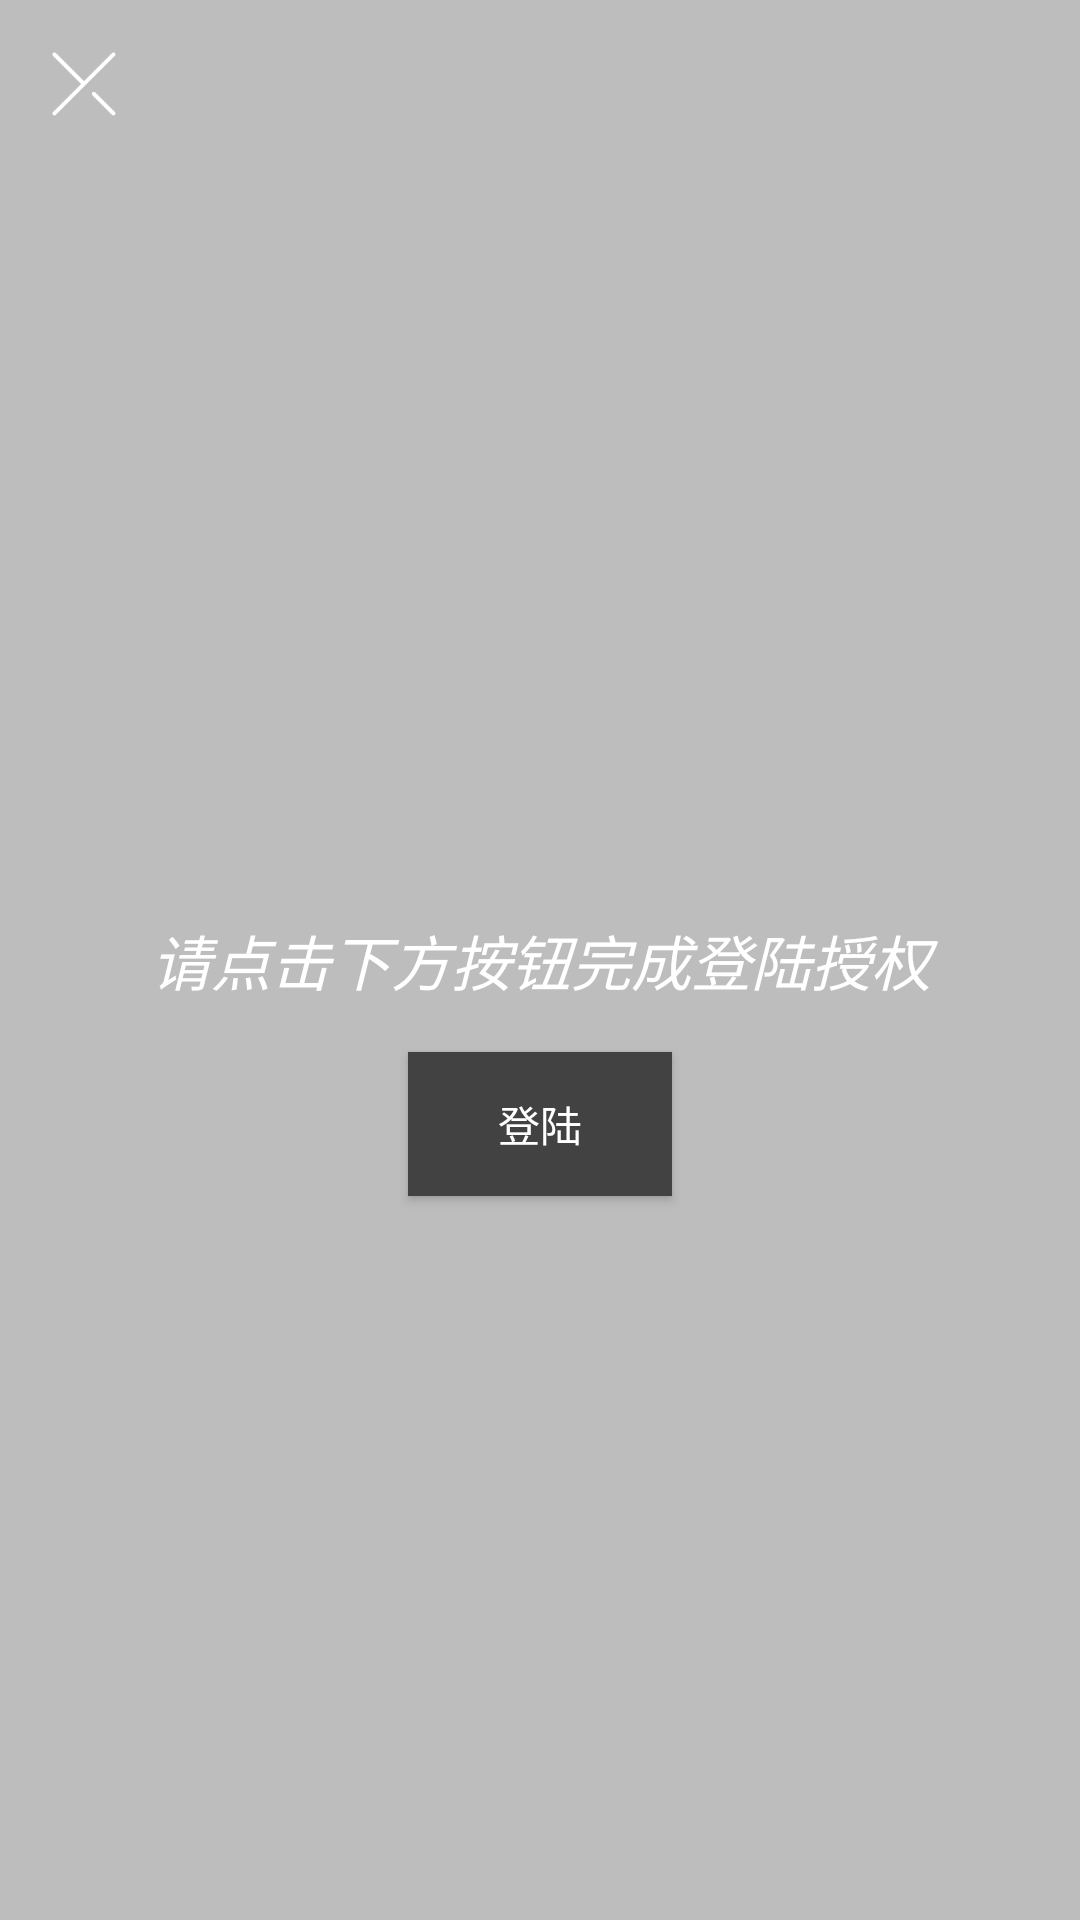

Icons on this 1080w x 1920h Android screen, each with the point to tap as (x,y):
close: (84,84)
